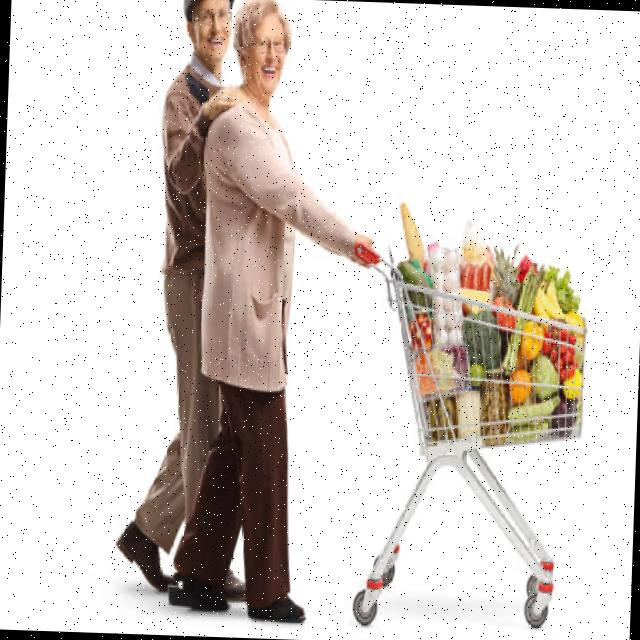Person: (169, 0, 380, 624), (114, 0, 267, 597)
